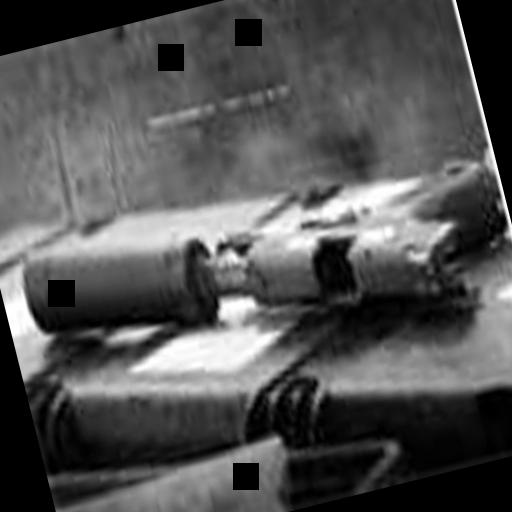Handgun: (6, 118, 512, 403)
